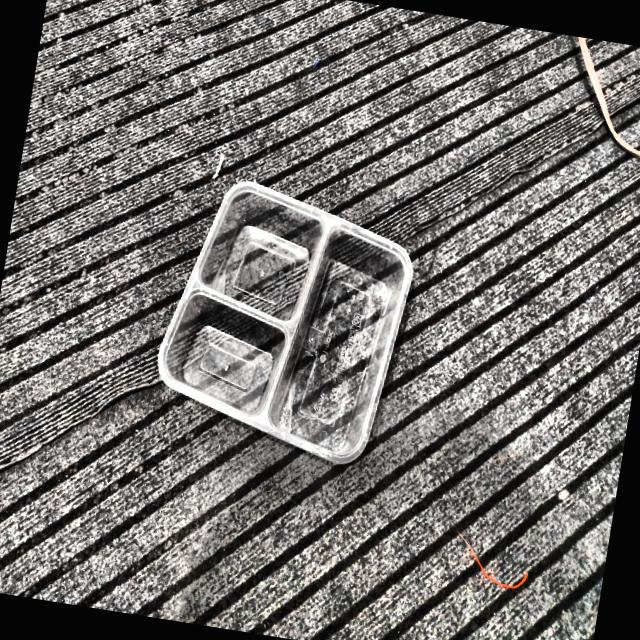plastic container: (158, 182, 412, 464)
